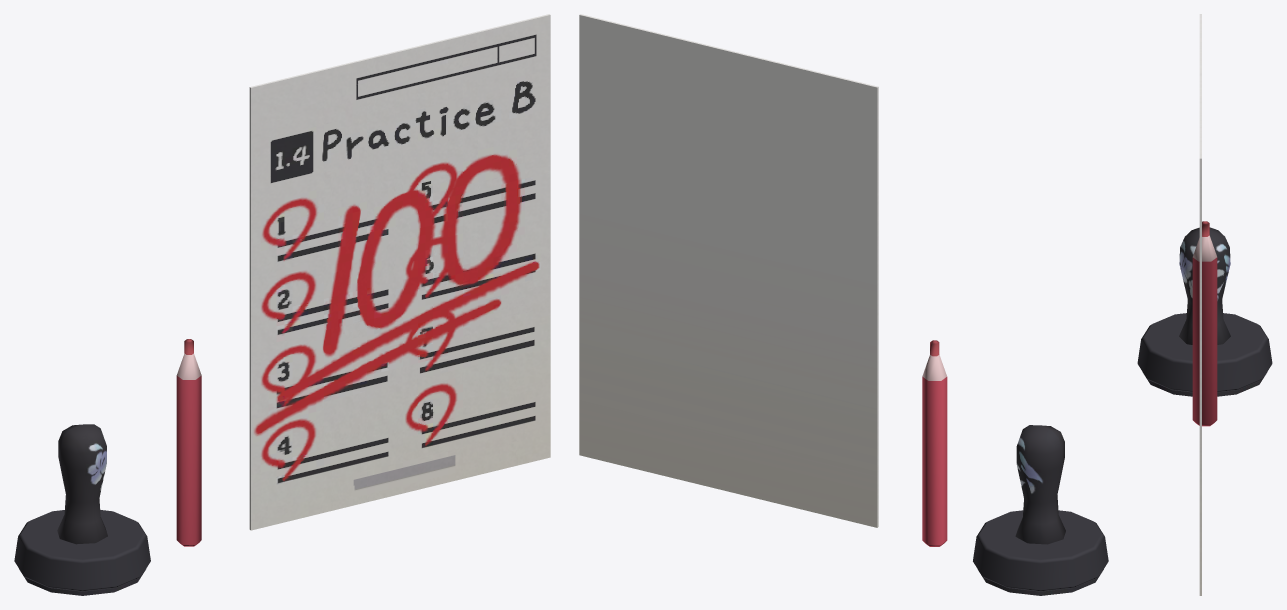
The model's file is Kokona_Stamp.fbx.
3 views of the same model, side by side, from view 1: azimuth 30°, elevation 25°; view 2: azimuth 150°, elevation 25°; view 3: azimuth 270°, elevation 25° (orthographic).
Parts seen in each view (by area): view 1: CH0137_Stamp_Outline; view 2: CH0137_Stamp_Outline; view 3: CH0137_Stamp_Outline.
Boxes of the visible parts, x1,y1,x2,y2 form: CH0137_Stamp_Outline: (14,14,550,595); CH0137_Stamp_Outline: (579,14,1108,595); CH0137_Stamp_Outline: (1137,14,1272,595).
Bounding box in the file's own units: 0.2494 × 0.2011 × 0.0563.
